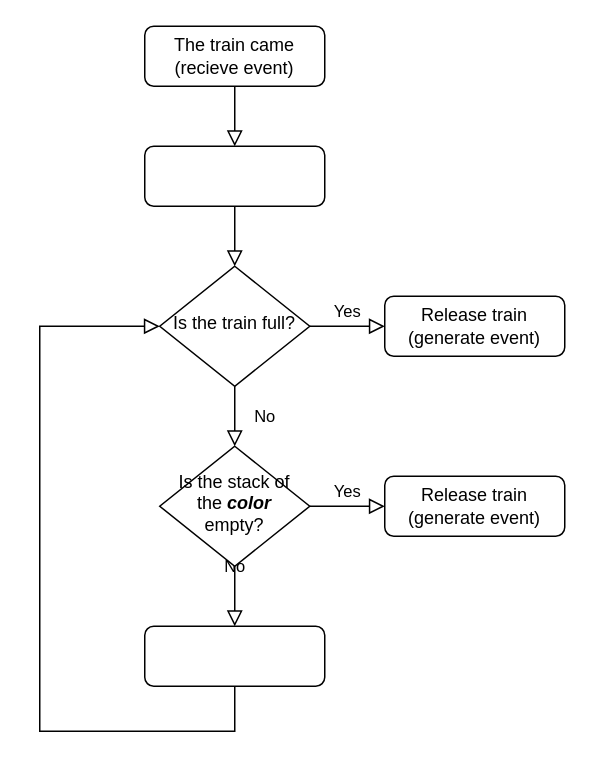
Image size: 591x773. Some labels were removed from this diagram. Each missing label, with the centre of its shape:
Check the color of the train: (x=234, y=175)
Take the box and place it on the train: (x=234, y=655)
